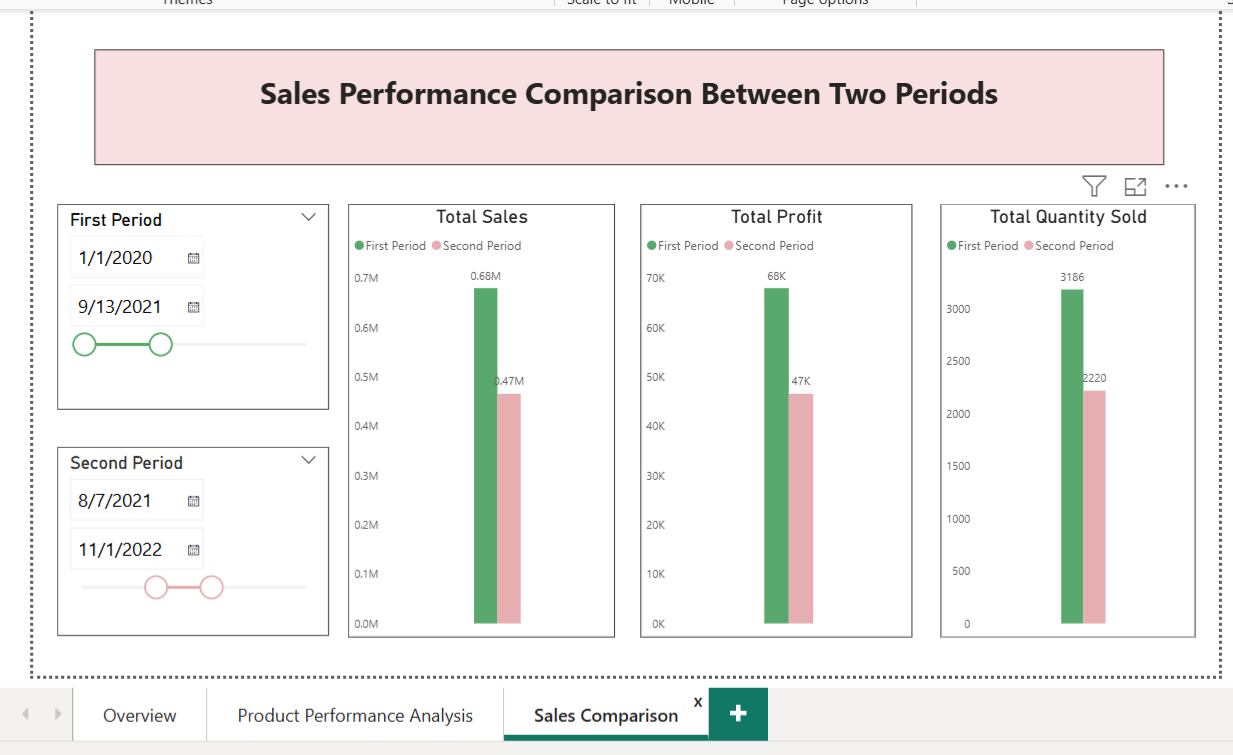

Layout of this report page (visuals, bound fields, positions):
{"tool":"powerbi","page":{"name":"Sales Comparison","canvas":[1280,720],"ordinal":2},"visuals":[{"type":"slicer","fields":{"Values":["Date Table 1.Date"]},"box":[25.9,210.5,293.1,221.8],"z":0},{"type":"slicer","fields":{"Values":["Date Table 2.Date"]},"box":[25.9,472.8,293.1,204],"z":1000},{"type":"clusteredColumnChart","title":"Total Sales","fields":{"Y":["Sum(Fact Table.Net Sales )","Date Table 1.Sum of Net Sales"]},"box":[340,210.5,288.2,468],"z":2000},{"type":"clusteredColumnChart","title":"Total Profit","fields":{"Y":["Sum(Fact Table.Profit)","Measures Table.Total Profit"]},"box":[655.8,210.5,293.1,468],"z":3000},{"type":"clusteredColumnChart","title":"Total Quantity Sold","fields":{"Y":["Sum(Fact Table.Units Sold)","Measures Table.Total Quantity"]},"box":[979.6,210.5,275.3,468],"z":4000},{"type":"textbox","box":[66.4,43.7,1154.5,124.7],"z":5000}]}

Visuals, with their boxes on the page's 1280x720 design canvas (x1, y1, x2, y2). These are canvas units, not pixel positions in the 1233x755 screenshot, which may show the page scaled, cropped or inside an application window:
slicer - Date Table 1.Date: {"x1": 26, "y1": 210, "x2": 319, "y2": 432}
slicer - Date Table 2.Date: {"x1": 26, "y1": 473, "x2": 319, "y2": 677}
"Total Sales" clusteredColumnChart: {"x1": 340, "y1": 210, "x2": 628, "y2": 678}
"Total Profit" clusteredColumnChart: {"x1": 656, "y1": 210, "x2": 949, "y2": 678}
"Total Quantity Sold" clusteredColumnChart: {"x1": 980, "y1": 210, "x2": 1255, "y2": 678}
textbox: {"x1": 66, "y1": 44, "x2": 1221, "y2": 168}
